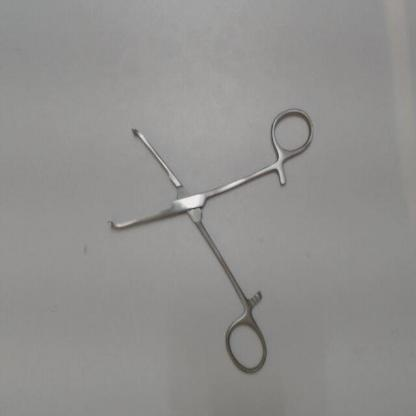Allis Tissue Forceps: (100, 99, 320, 381)
